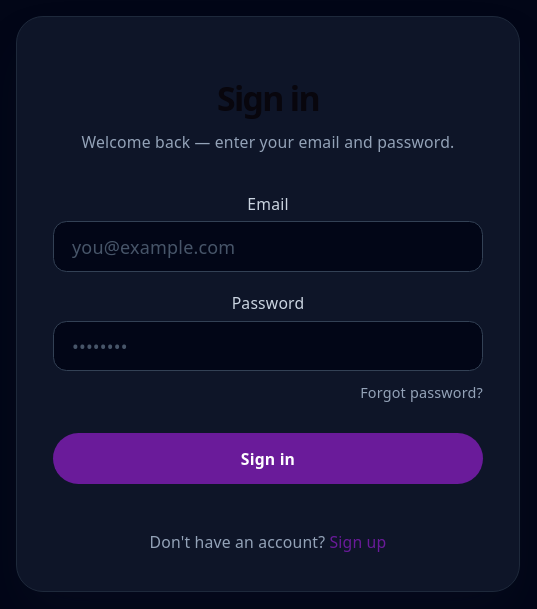
Test: LoginPage — Forgot Password Flow › shows validation error when submitting with empty email
The image size is (537, 609).
Click the button "Forgot password?" at (422, 393), box 360,380 -> 483,406
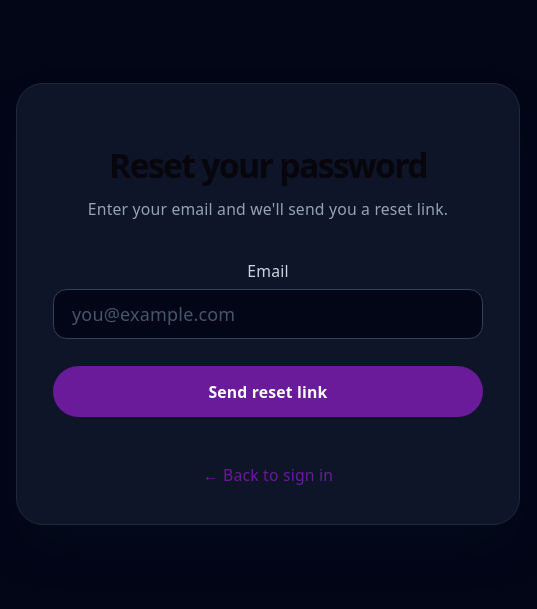
Submit the form "Send reset link", box 53,240 -> 483,435
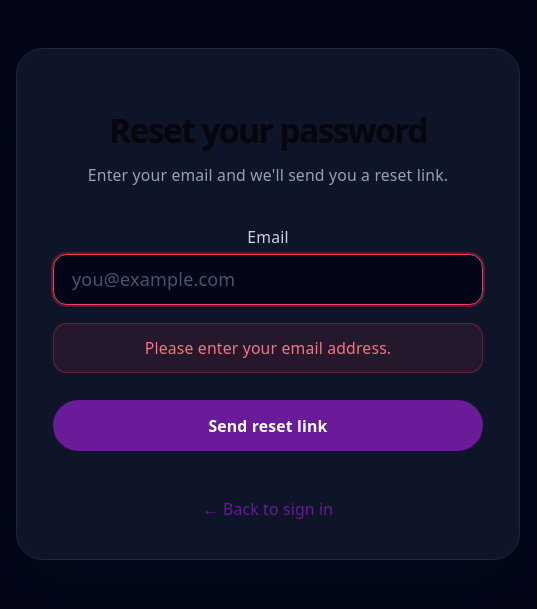
Check: the message reads "Please enter your email address.", box 145,337 -> 391,359
